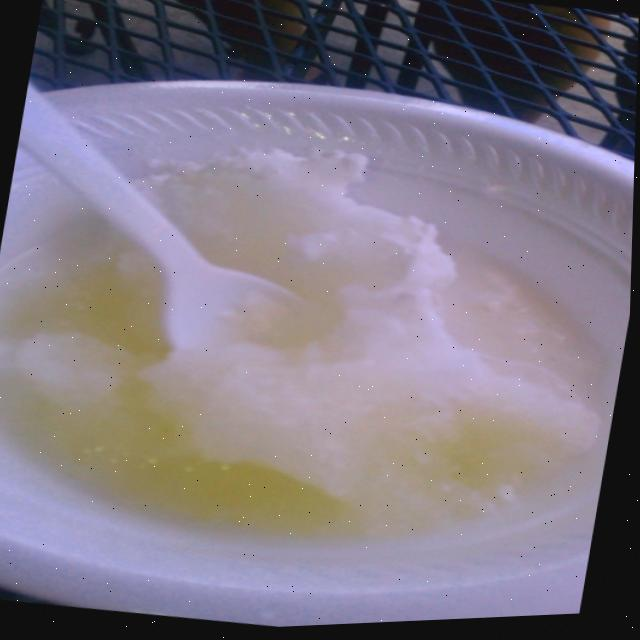蛋糕甜品: (0, 22, 639, 632)
